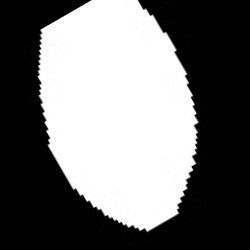spot: (39, 2, 198, 230)
